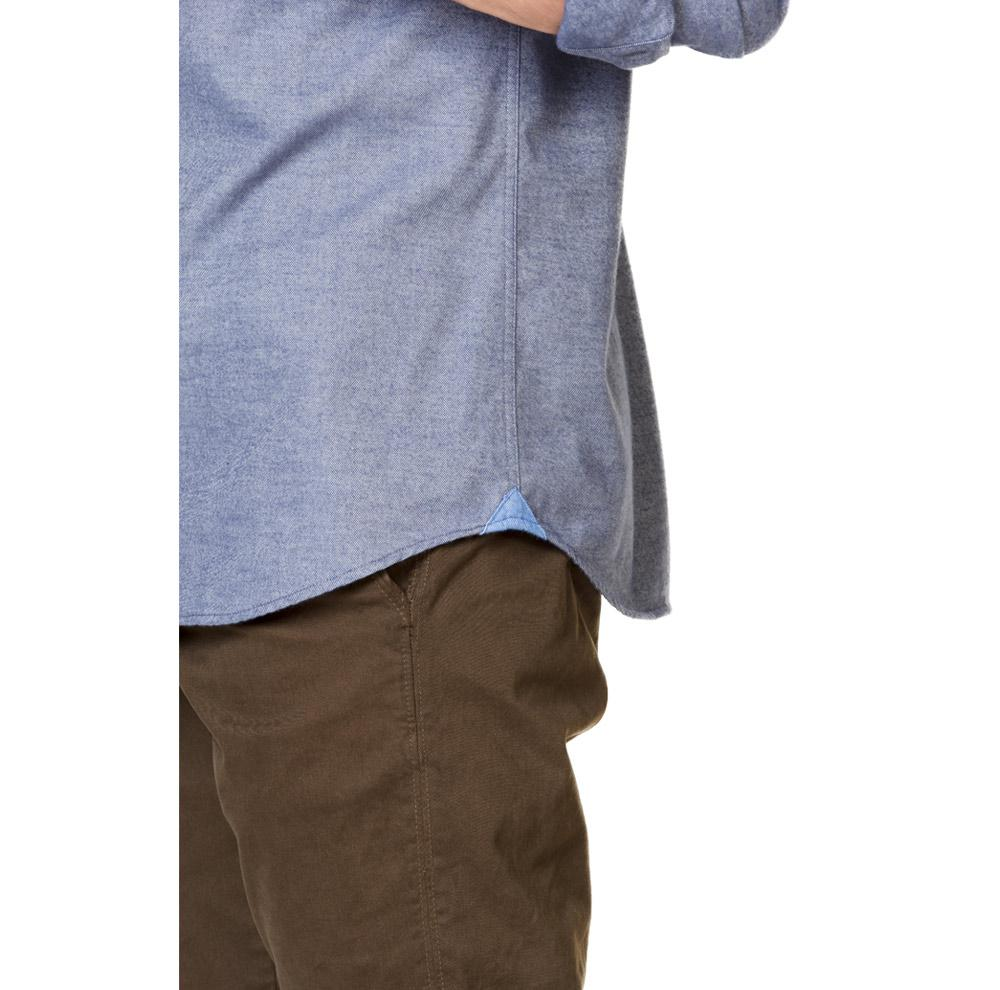teeshirt: (53, 1, 714, 663)
